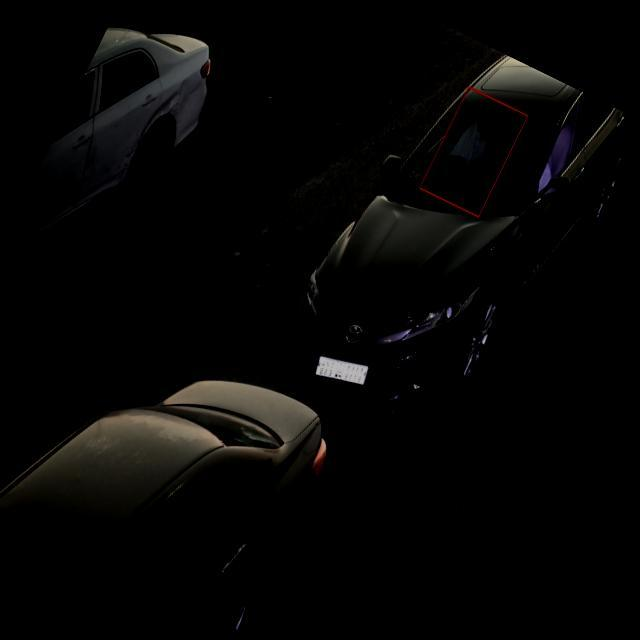windshield: (385, 88, 549, 222)
